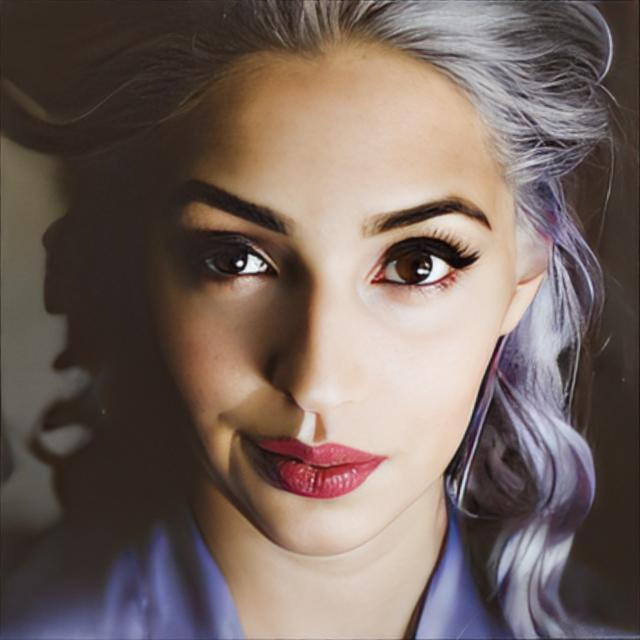content: (155, 36, 520, 555)
